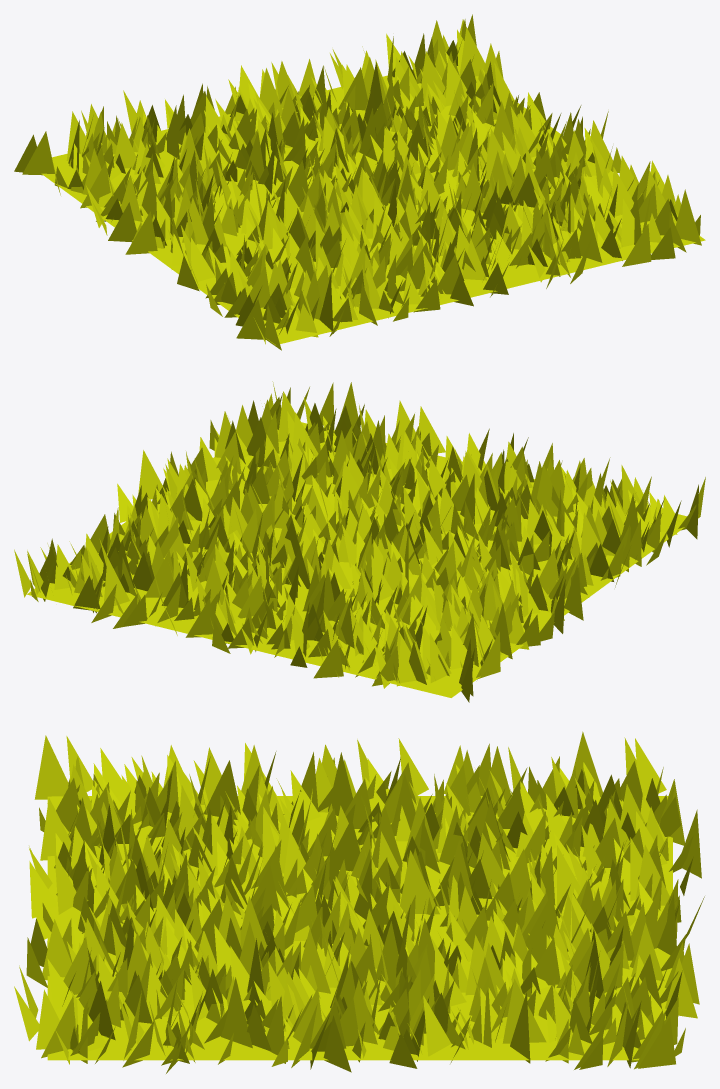
Rendered from grass1.fbx.
The picture shows the model from 3 angles, top to bottom: view 1: azimuth 30°, elevation 25°; view 2: azimuth 150°, elevation 25°; view 3: azimuth 270°, elevation 25°; orthographic projection. The views are drawn at different scales.
Parts seen in each view (by area): view 1: Plane, Plane|Plane.001|Dupli|355, Plane|Plane.001|Dupli|961, Plane|Plane.001|Dupli|443, Plane|Plane.001|Dupli|545, Plane|Plane.001|Dupli|707, Plane|Plane.001|Dupli|450, Plane|Plane.001|Dupli|803, Plane|Plane.001|Dupli|674, Plane|Plane.001|Dupli|650, Plane|Plane.001|Dupli|815, Plane|Plane.001|Dupli|541 (+8 smaller); view 2: Plane, Plane|Plane.001|Dupli|88, Plane|Plane.001|Dupli|122, Plane|Plane.001|Dupli|892, Plane|Plane.001|Dupli|631, Plane|Plane.001|Dupli|993, Plane|Plane.001|Dupli|443, Plane|Plane.001|Dupli|215, Plane|Plane.001|Dupli|863, Plane|Plane.001|Dupli|761, Plane|Plane.001|Dupli|855, Plane|Plane.001|Dupli|829 (+7 smaller); view 3: Plane, Plane|Plane.001|Dupli|241, Plane|Plane.001|Dupli|188, Plane|Plane.001|Dupli|812, Plane|Plane.001|Dupli|225, Plane|Plane.001|Dupli|550, Plane|Plane.001|Dupli|481, Plane|Plane.001|Dupli|567, Plane|Plane.001|Dupli|400, Plane|Plane.001|Dupli|961, Plane|Plane.001|Dupli|548, Plane|Plane.001|Dupli|707 (+76 smaller).
Part boxes in pixels (box(x1,y1,x2,y2)): Plane: box(41, 66, 705, 345); Plane|Plane.001|Dupli|355: box(22, 131, 54, 175); Plane|Plane.001|Dupli|961: box(675, 189, 701, 245); Plane|Plane.001|Dupli|443: box(125, 211, 157, 254); Plane|Plane.001|Dupli|545: box(236, 299, 265, 339); Plane|Plane.001|Dupli|707: box(578, 206, 602, 262); Plane|Plane.001|Dupli|450: box(459, 27, 485, 76); Plane|Plane.001|Dupli|803: box(108, 202, 136, 242); Plane|Plane.001|Dupli|674: box(461, 163, 485, 212); Plane|Plane.001|Dupli|650: box(622, 224, 651, 266); Plane|Plane.001|Dupli|815: box(420, 51, 446, 101); Plane|Plane.001|Dupli|541: box(191, 237, 215, 282); Plane: box(27, 422, 686, 697); Plane|Plane.001|Dupli|88: box(145, 550, 173, 597); Plane|Plane.001|Dupli|122: box(138, 450, 167, 499); Plane|Plane.001|Dupli|892: box(313, 640, 343, 678); Plane|Plane.001|Dupli|631: box(535, 464, 558, 516); Plane|Plane.001|Dupli|993: box(104, 557, 129, 605); Plane|Plane.001|Dupli|443: box(564, 564, 583, 620); Plane|Plane.001|Dupli|215: box(476, 631, 500, 678); Plane|Plane.001|Dupli|863: box(185, 598, 213, 637); Plane|Plane.001|Dupli|761: box(429, 633, 451, 682); Plane|Plane.001|Dupli|855: box(396, 635, 425, 686); Plane|Plane.001|Dupli|829: box(539, 548, 558, 594); Plane: box(47, 796, 672, 1060); Plane|Plane.001|Dupli|241: box(34, 735, 68, 799); Plane|Plane.001|Dupli|188: box(400, 850, 439, 914); Plane|Plane.001|Dupli|812: box(221, 977, 252, 1048); Plane|Plane.001|Dupli|225: box(502, 978, 546, 1043); Plane|Plane.001|Dupli|550: box(638, 1017, 675, 1068); Plane|Plane.001|Dupli|481: box(203, 760, 240, 819); Plane|Plane.001|Dupli|567: box(40, 798, 71, 860); Plane|Plane.001|Dupli|400: box(42, 919, 71, 980); Plane|Plane.001|Dupli|961: box(41, 996, 75, 1058); Plane|Plane.001|Dupli|548: box(301, 928, 330, 993); Plane|Plane.001|Dupli|707: box(63, 937, 91, 994).
Size of the model in its own units: 217 by 28.37 by 221.
